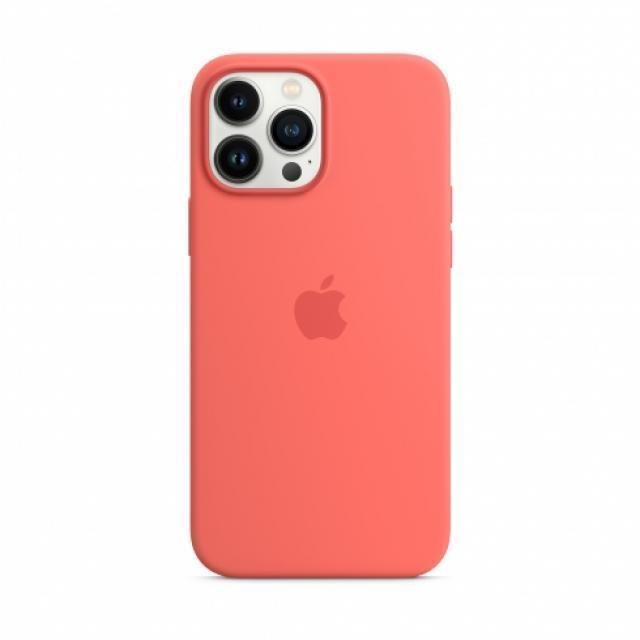phone: (184, 52, 456, 580)
